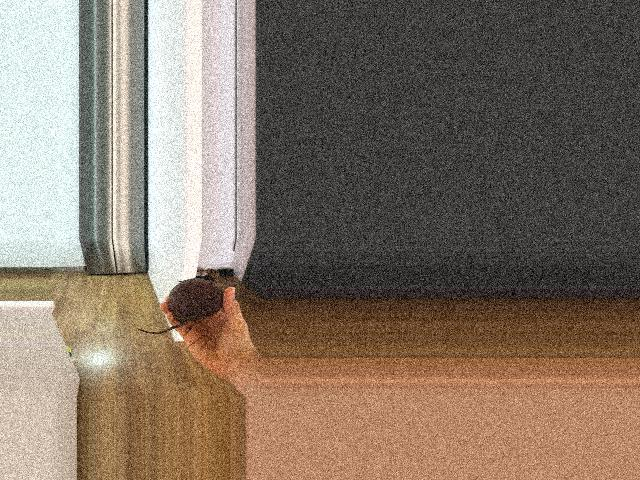beet: (136, 275, 222, 334)
